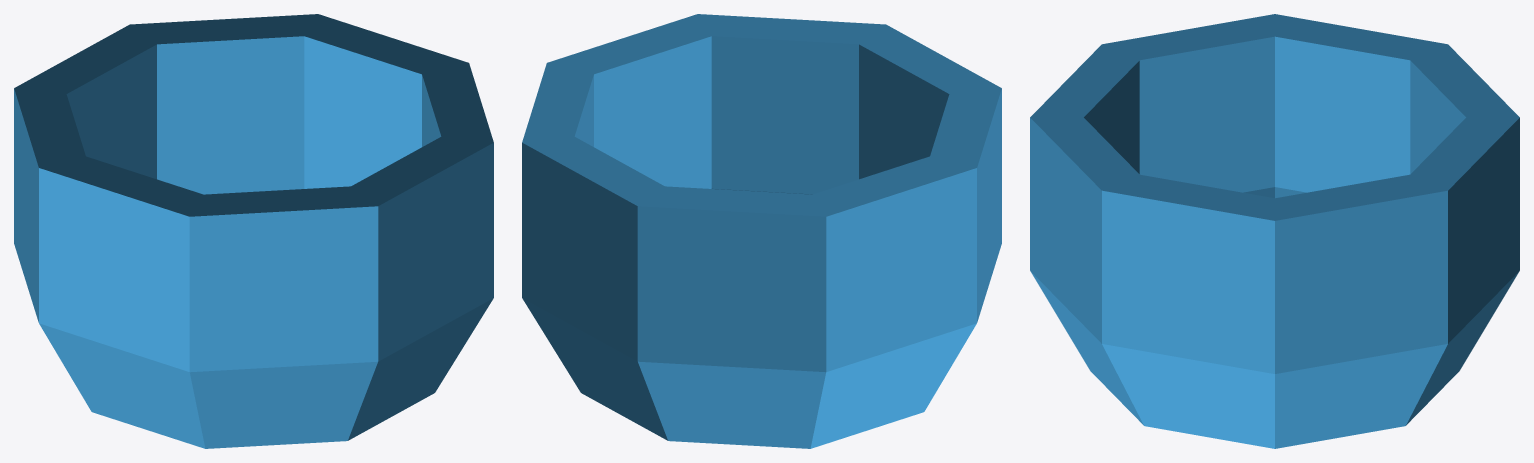
File: Cup 2.fbx
3 views of the same model, side by side, from view 1: azimuth 30°, elevation 25°; view 2: azimuth 150°, elevation 25°; view 3: azimuth 270°, elevation 25° (orthographic).
Visible parts, largest first — view 1: Node 0; view 2: Node 0; view 3: Node 0.
Boxes of the visible parts, <box> form: Node 0: <box>14,14,493,448</box>; Node 0: <box>522,14,1001,448</box>; Node 0: <box>1030,14,1519,448</box>.
Bounding box in the file's own units: 0.1441 × 0.0823 × 0.1441.
